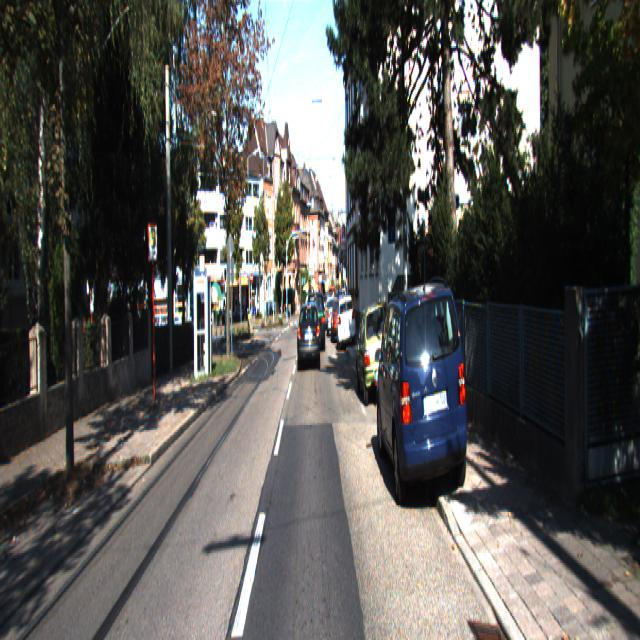Car: (374, 275, 471, 524), (355, 298, 396, 409), (297, 302, 320, 376), (306, 290, 325, 353), (336, 293, 356, 352), (331, 297, 348, 345)
